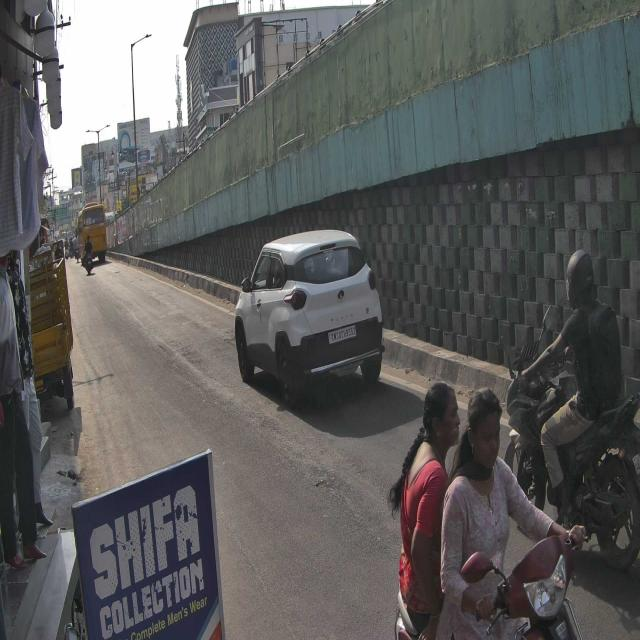single_rider: (506, 246, 640, 568)
